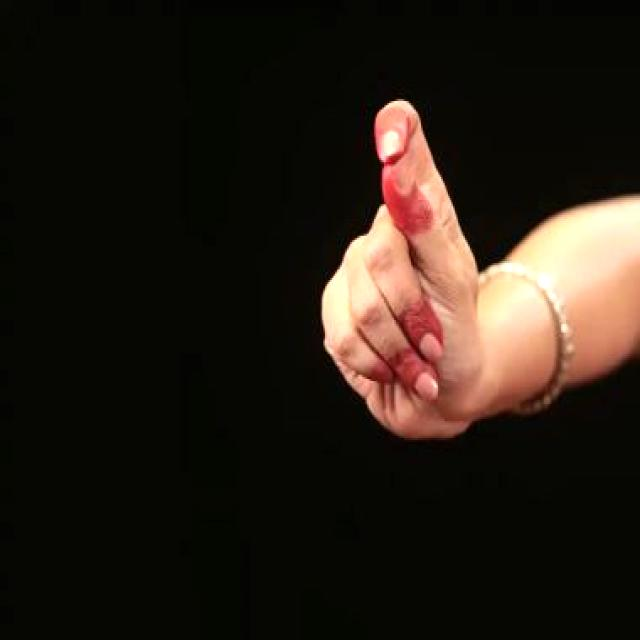Kapittha: (310, 68, 501, 475)
